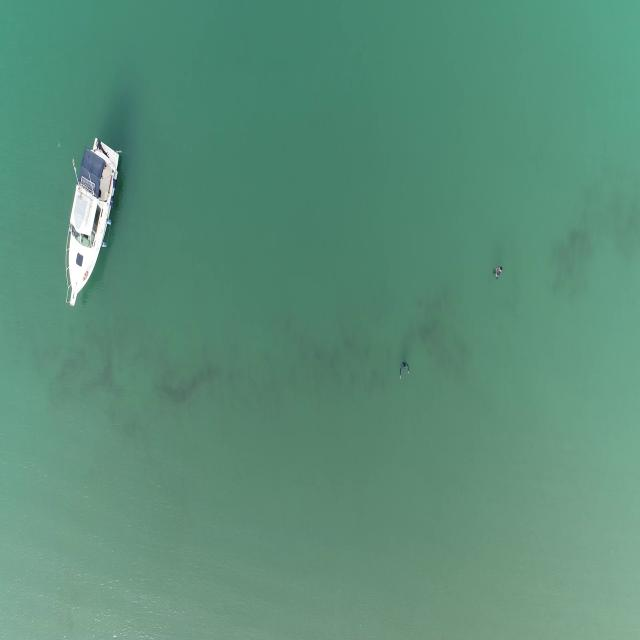boat: (60, 137, 121, 311)
person: (398, 359, 411, 382), (491, 262, 502, 287)
